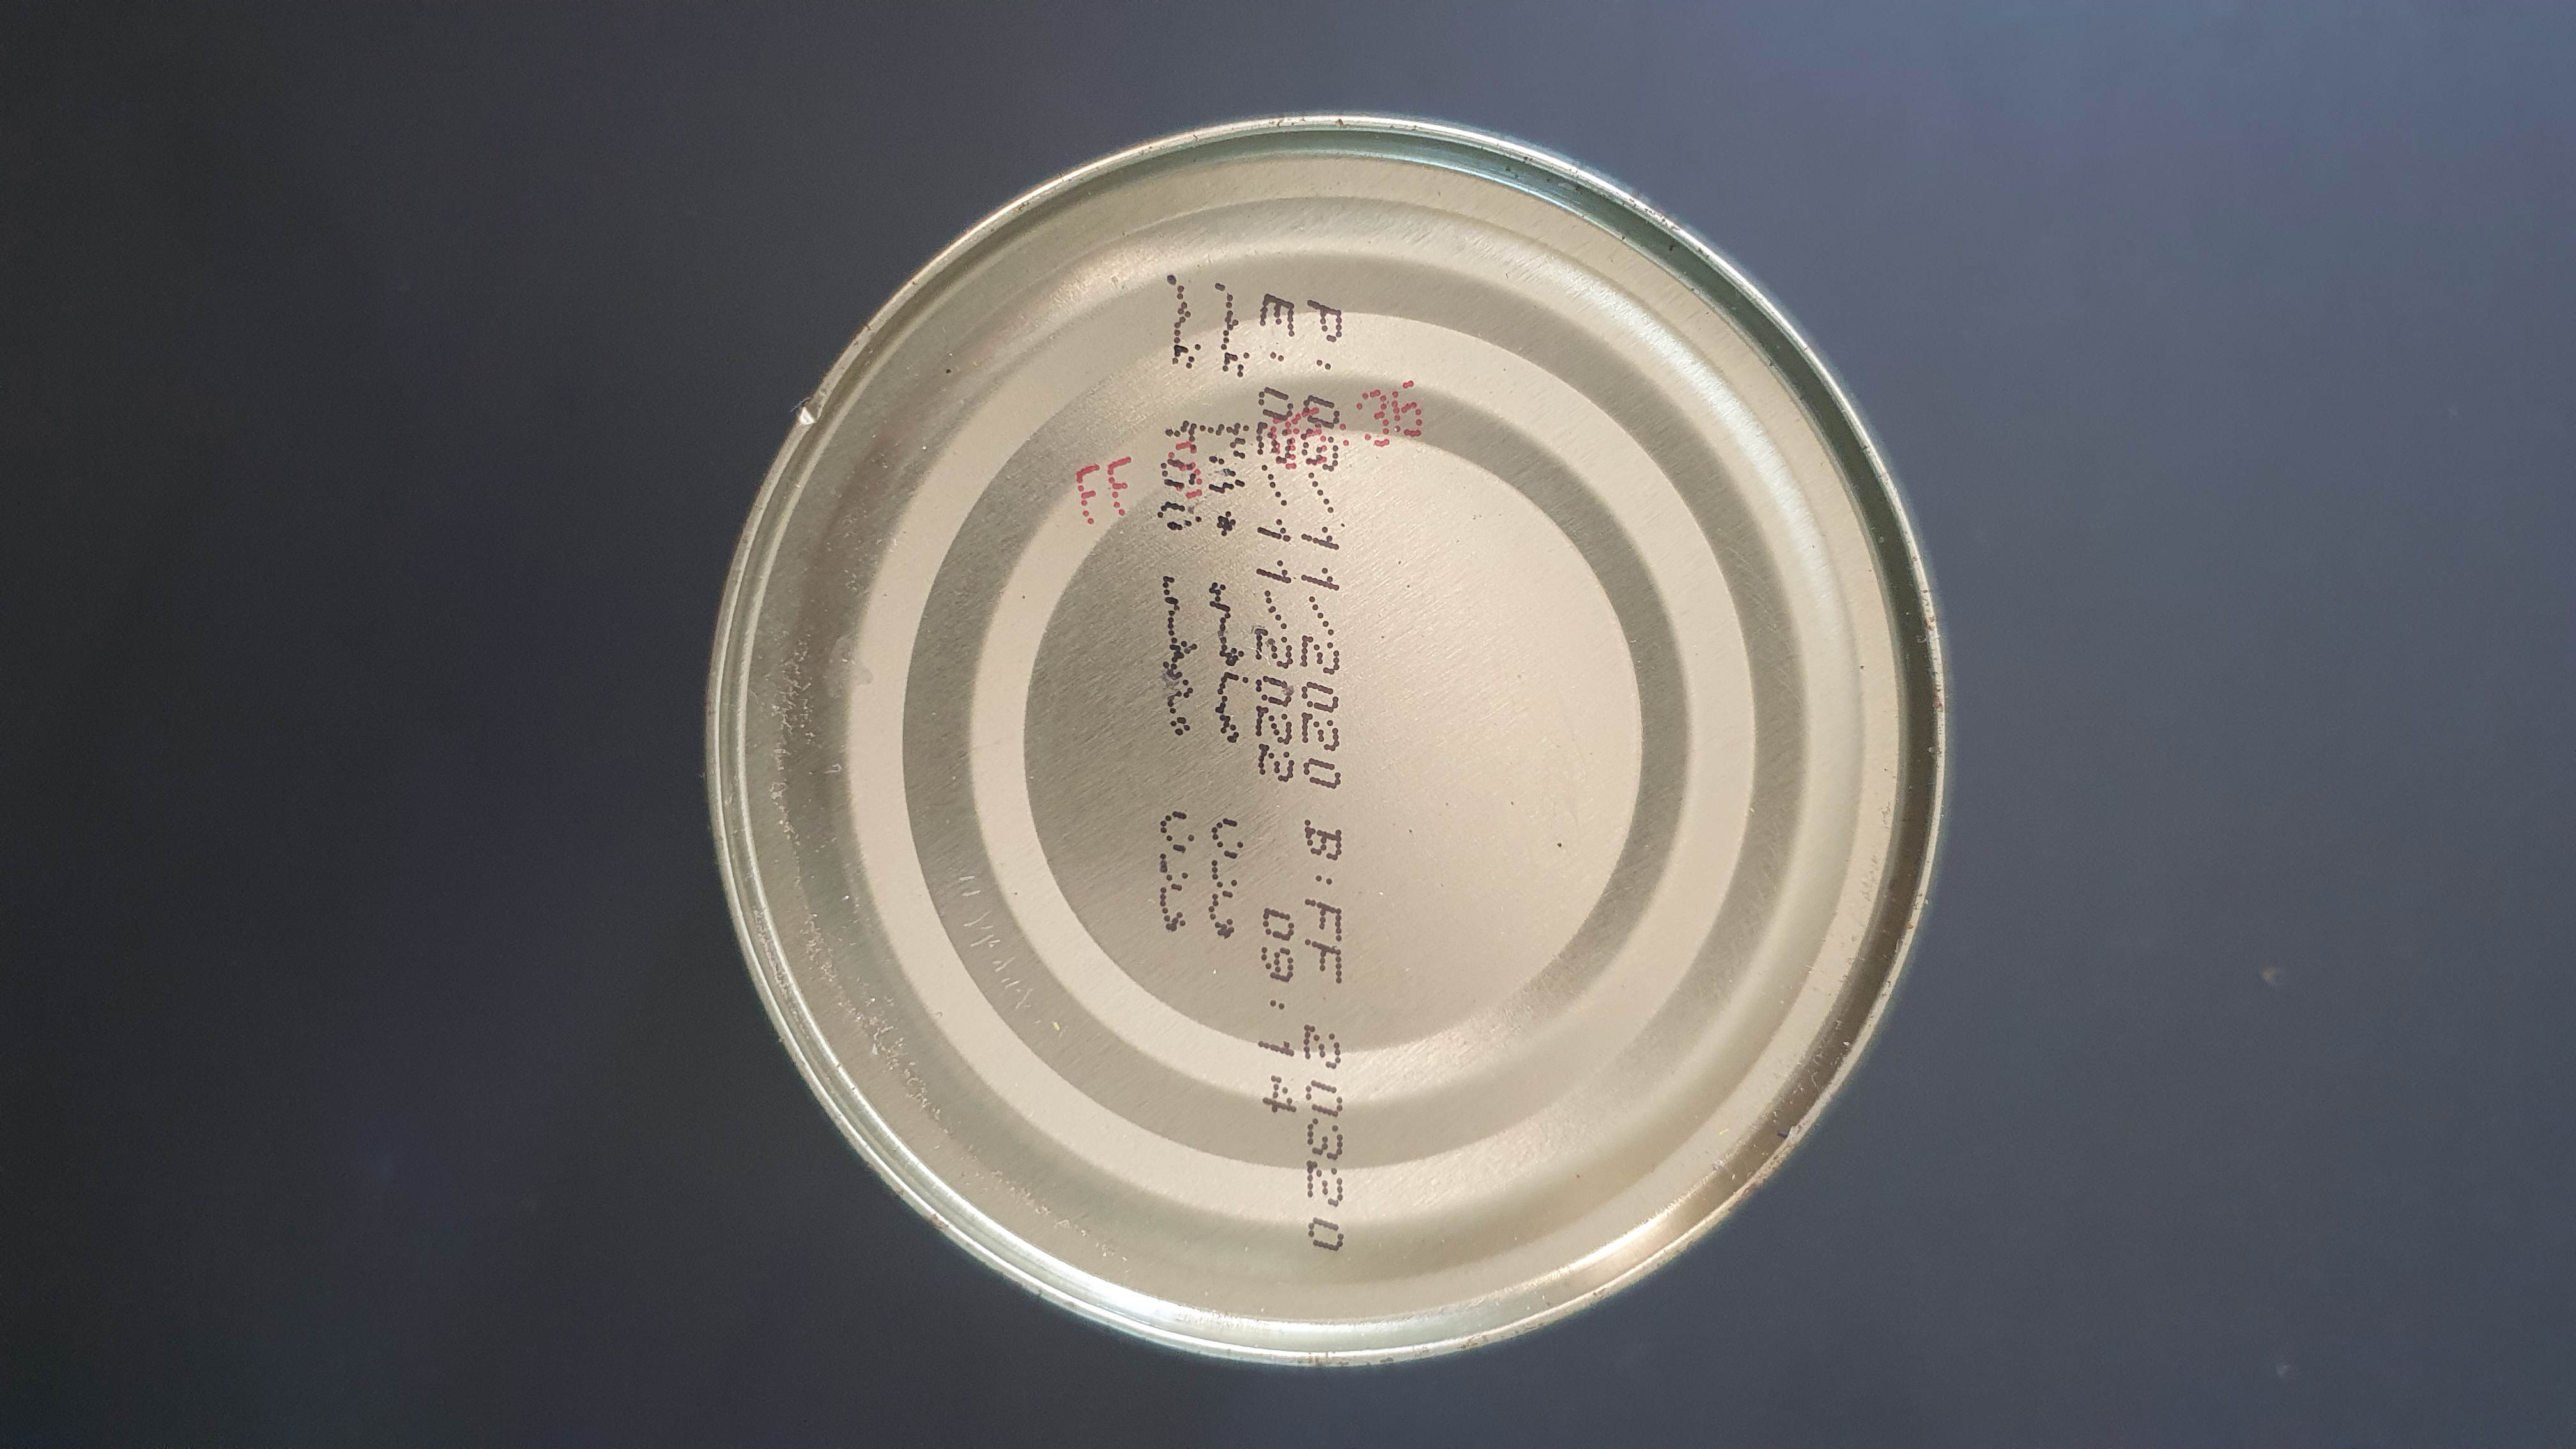metal: (646, 88, 1982, 1405)
